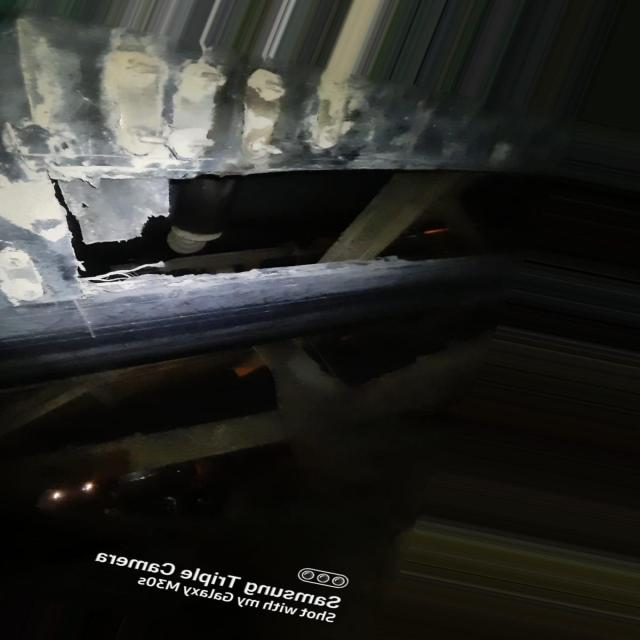Hole: (57, 169, 501, 285)
